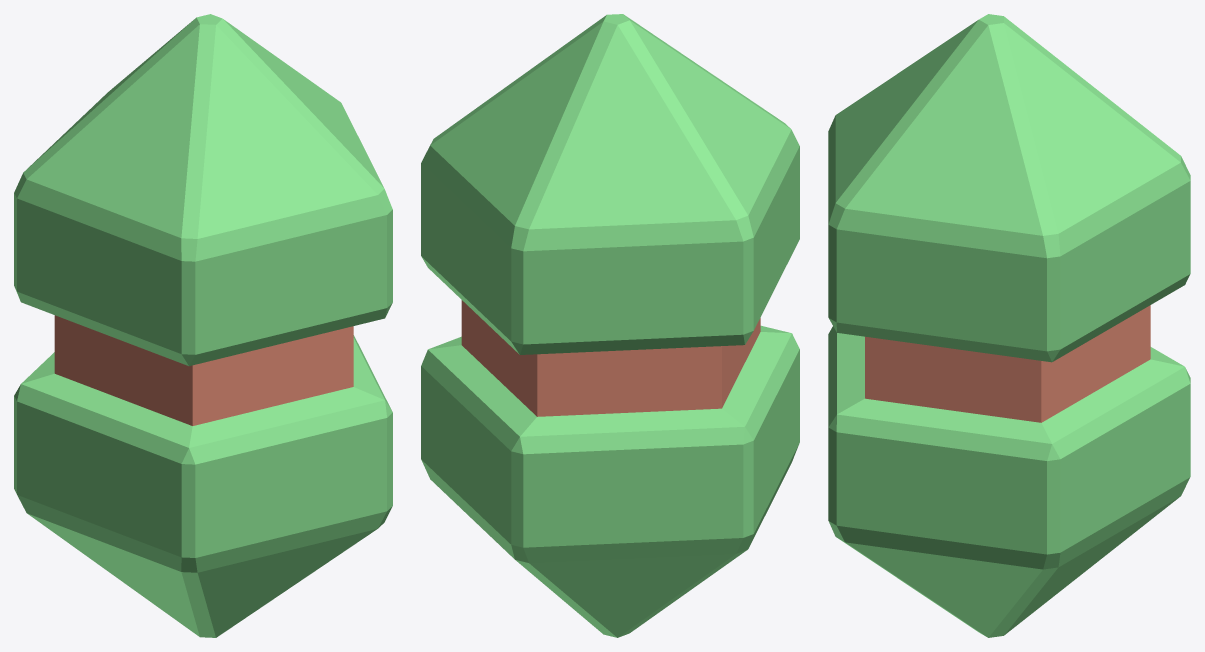
File: PowerPickUp.fbx
3 renders of one model, left to right at view 1: azimuth 30°, elevation 25°; view 2: azimuth 150°, elevation 25°; view 3: azimuth 270°, elevation 25°, orthographic.
Visible parts, largest first — view 1: Sphere; view 2: Sphere; view 3: Sphere.
Part boxes in pixels (x1,y1,x2,y2): Sphere: [14, 14, 392, 637]; Sphere: [421, 14, 799, 637]; Sphere: [828, 14, 1190, 637].
Size of the model in its own units: 162 by 289 by 154.
